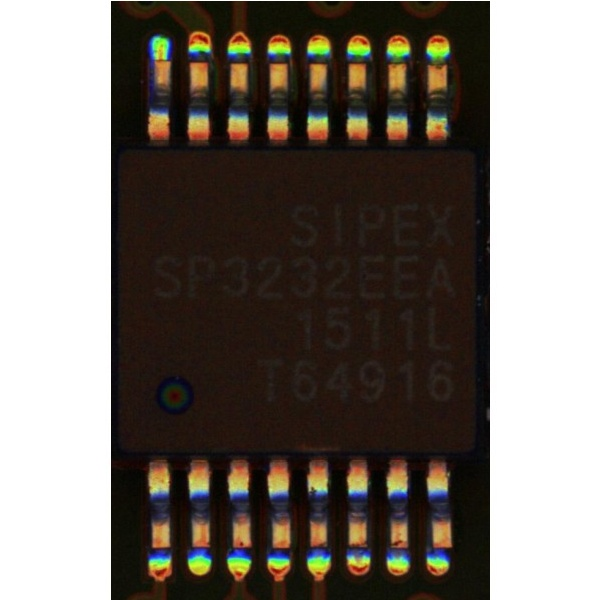Bad_podu: (155, 49, 166, 68)
